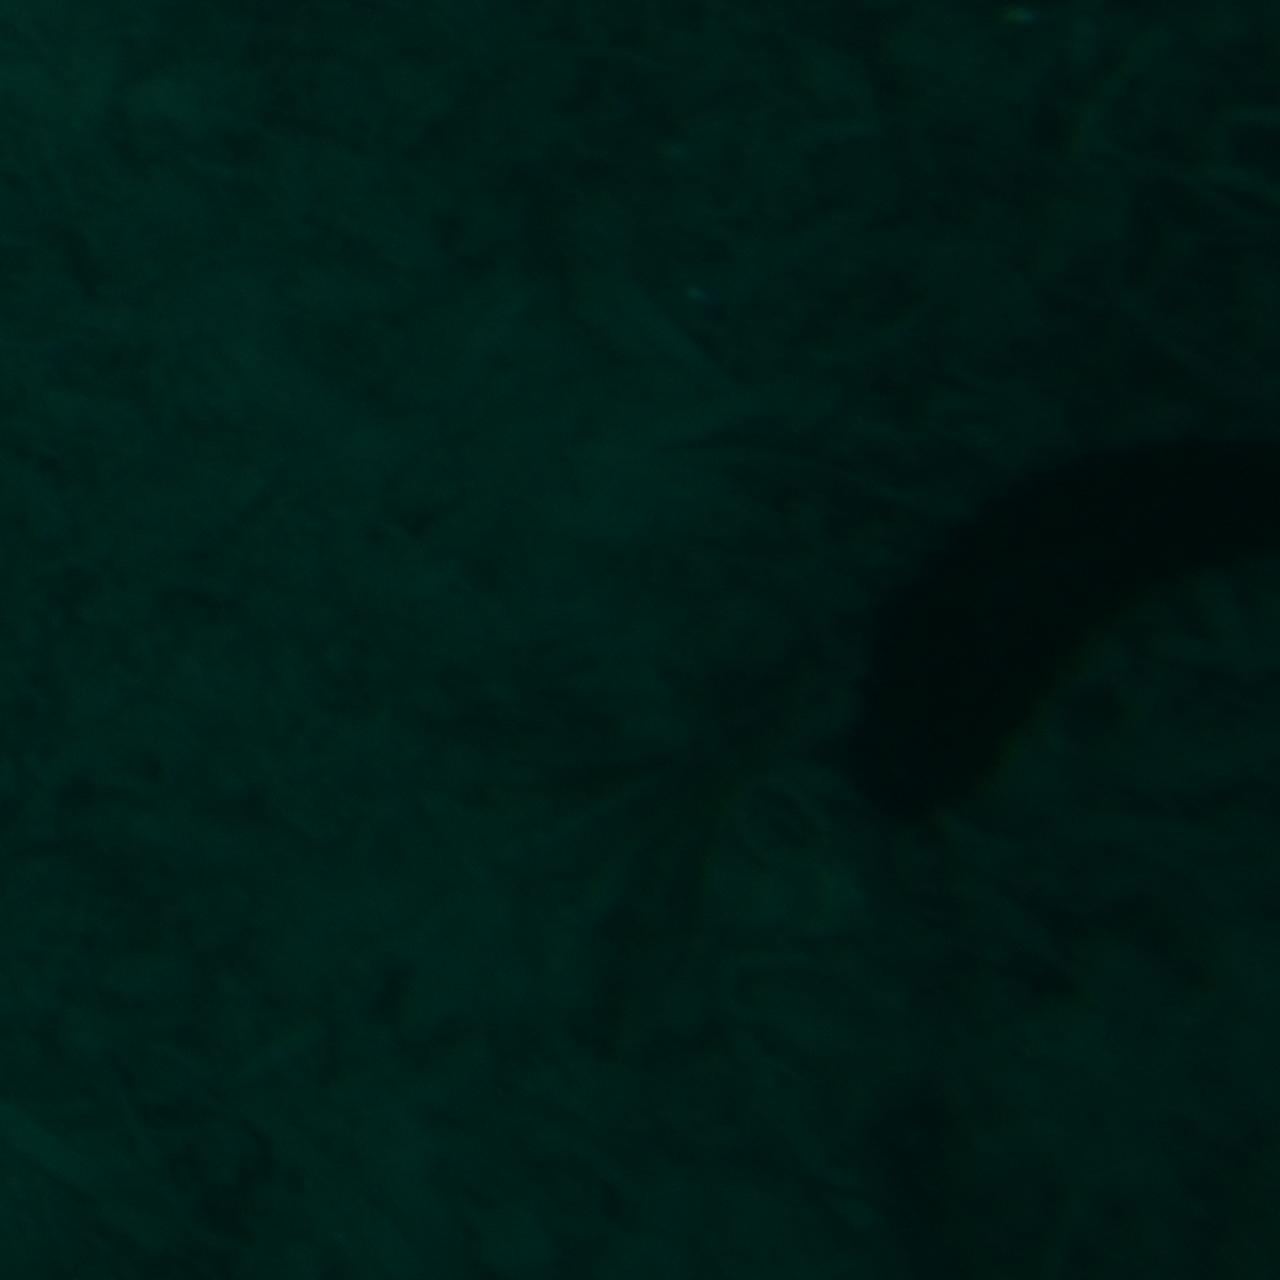Holothuria tubulosa: (817, 417, 1280, 863)
